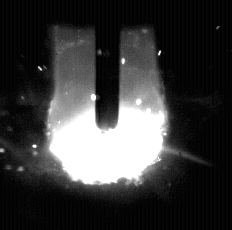arame: (97, 0, 119, 131)
poca: (50, 0, 166, 230)
